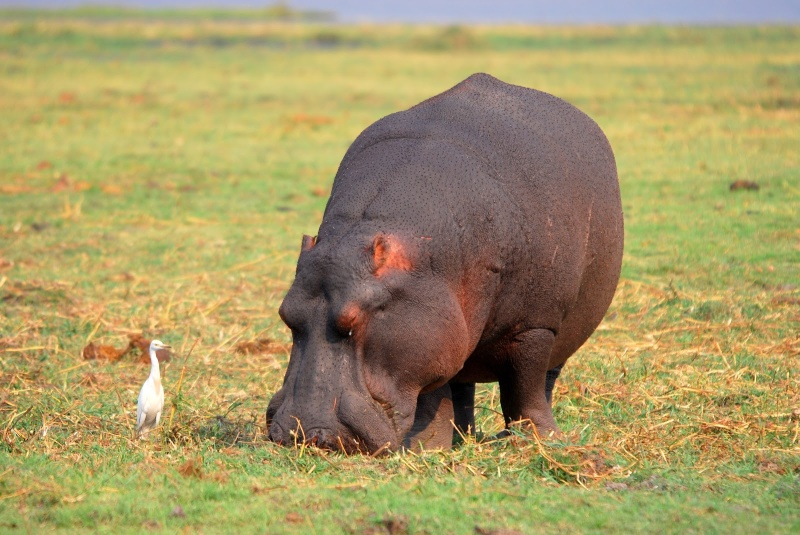hipopotamo: (263, 68, 631, 457)
